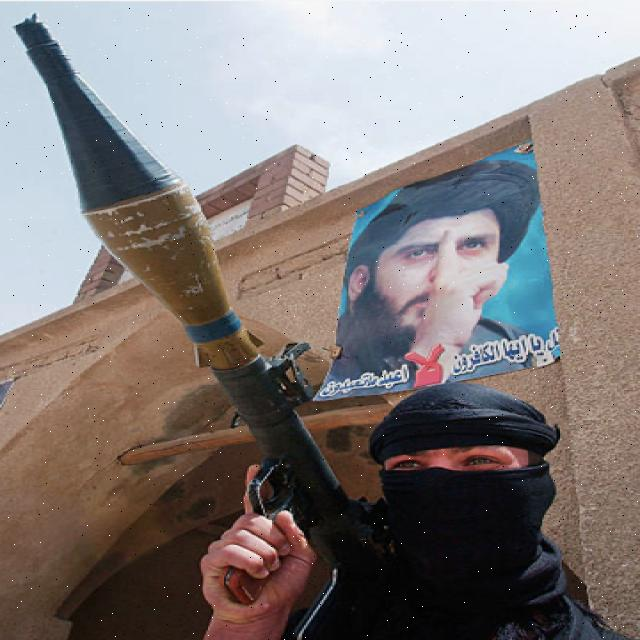bazooka: (6, 9, 442, 635)
